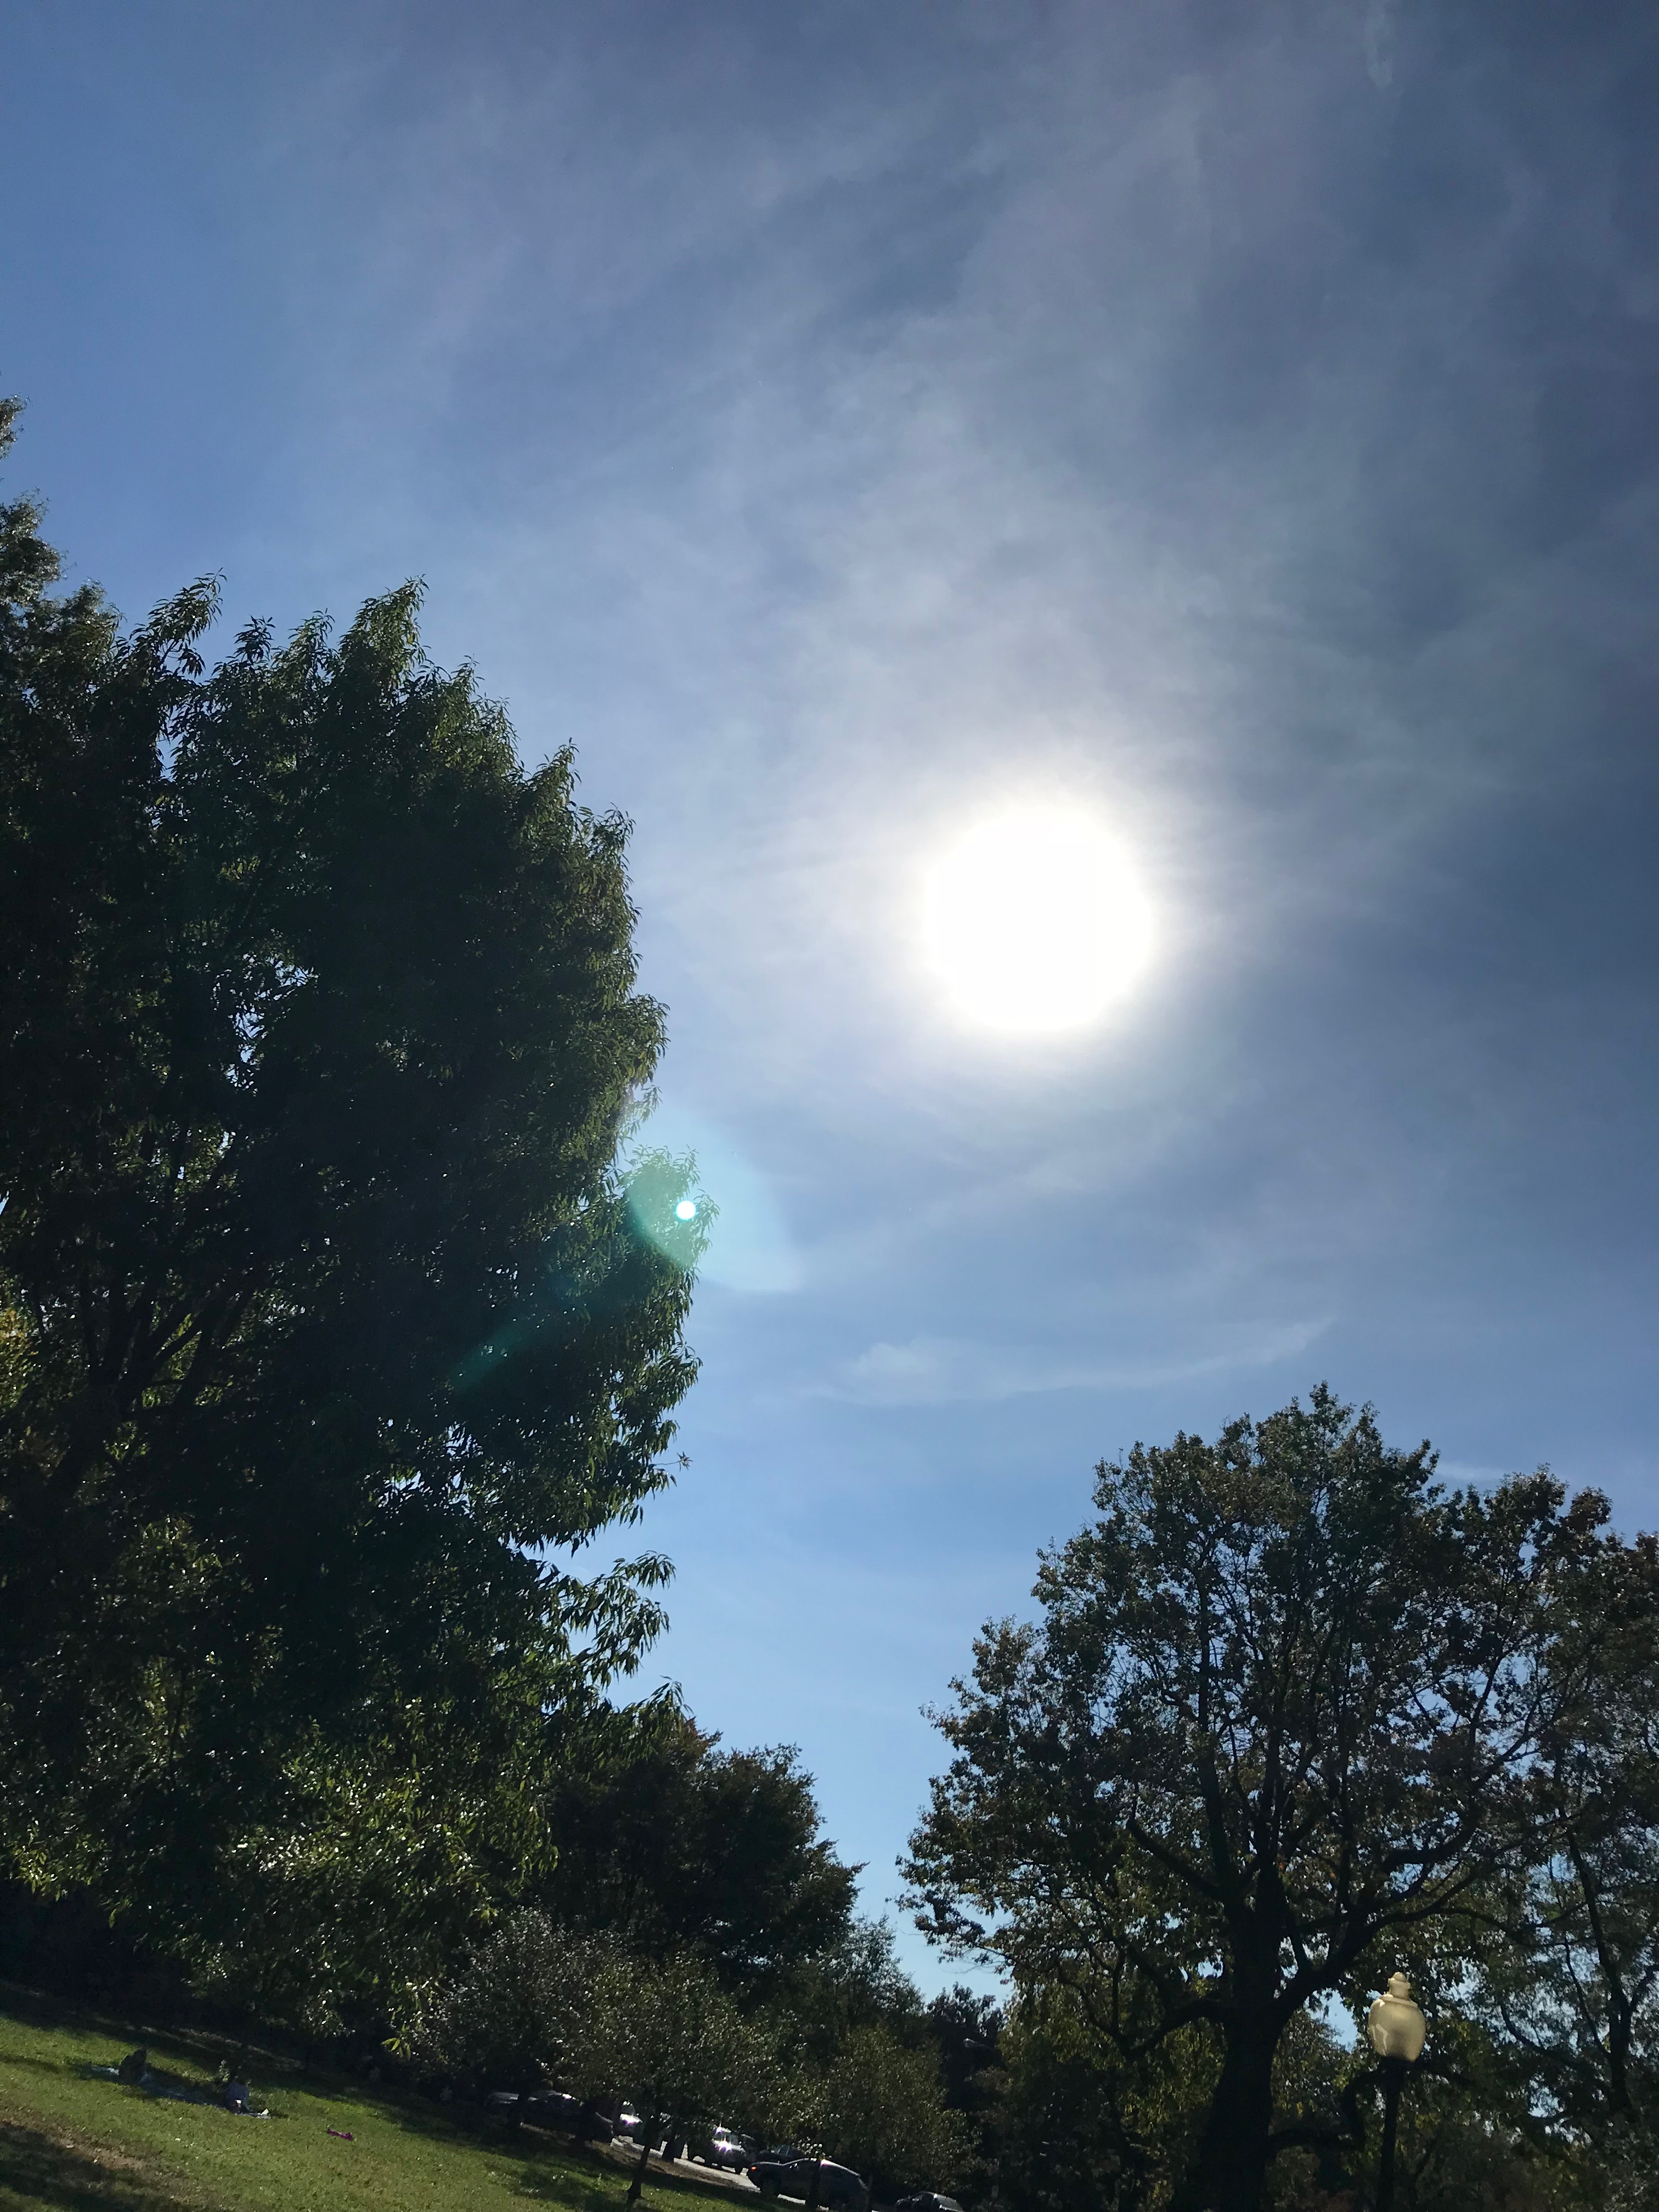flare: (674, 1198, 699, 1221)
